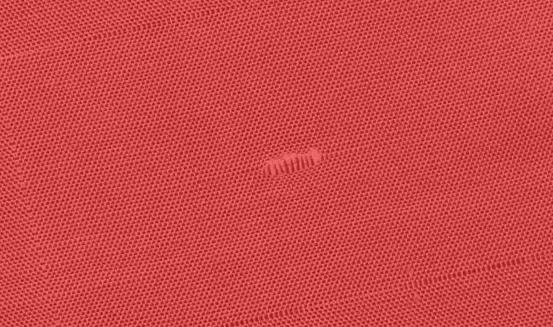slub: (251, 145, 328, 182)
